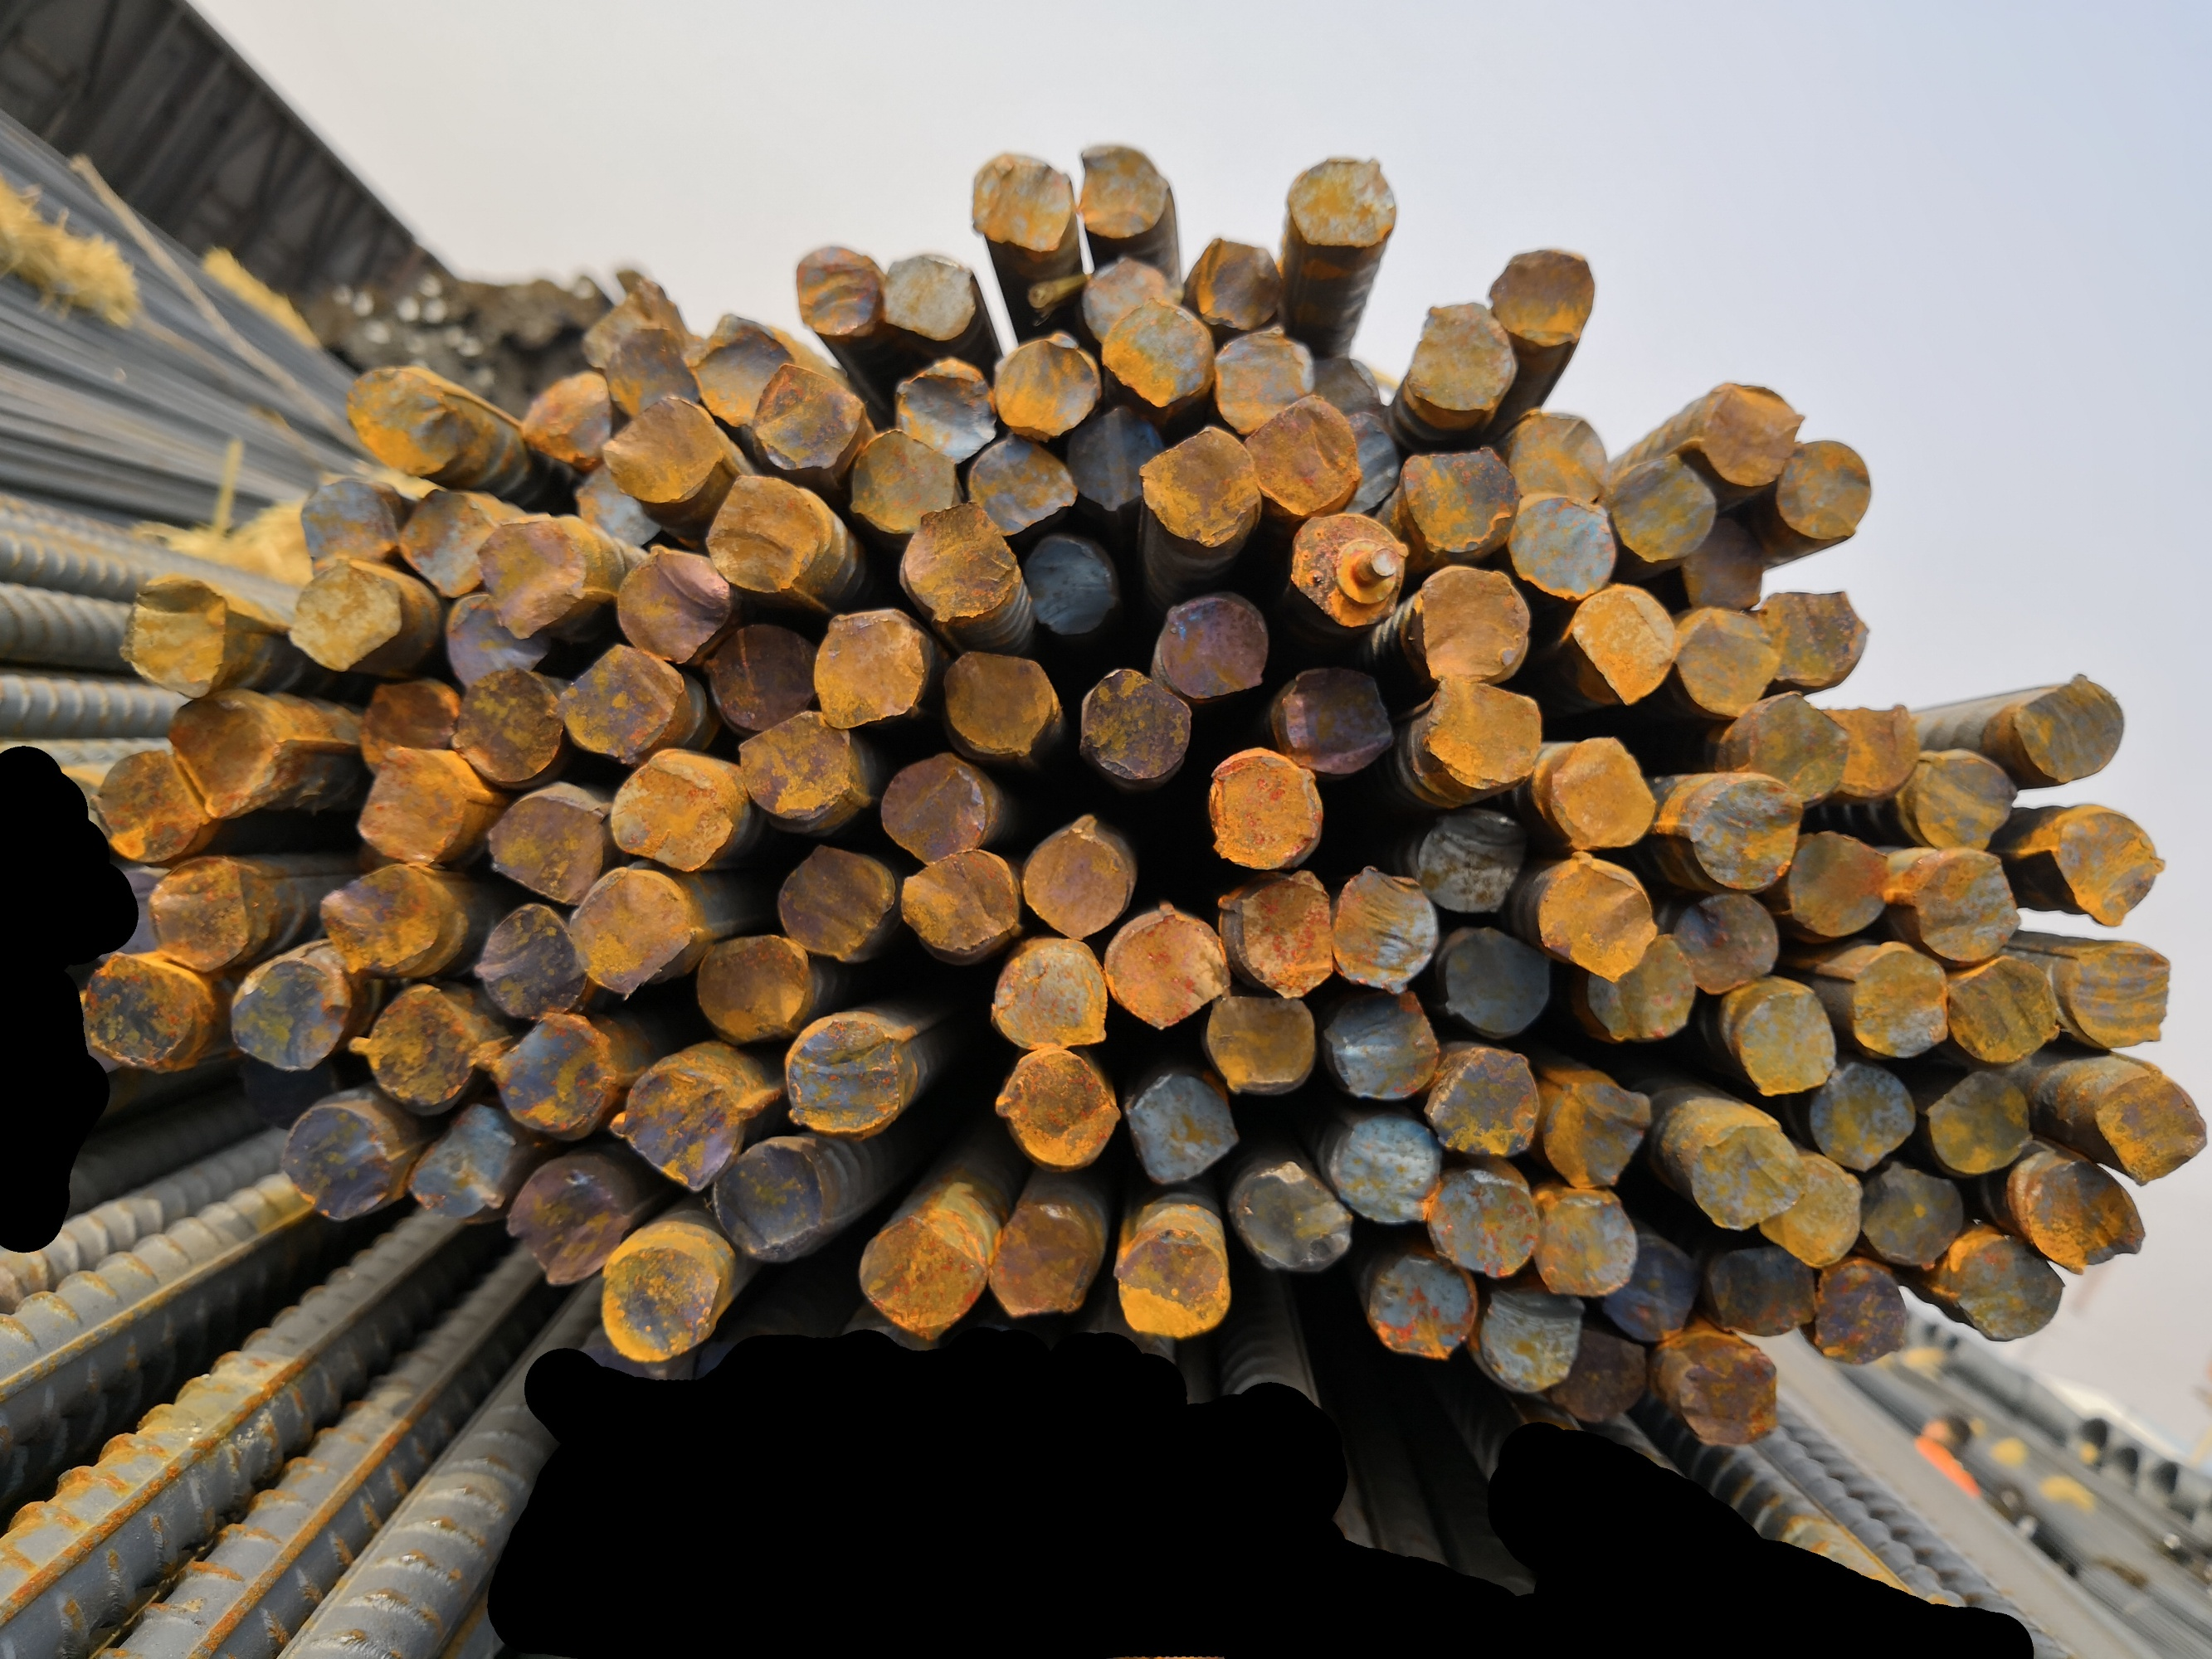rebar: (608, 1051, 755, 1190), (483, 1009, 628, 1140), (499, 1152, 633, 1291), (77, 951, 216, 1080), (347, 983, 483, 1114), (596, 1227, 723, 1364), (856, 1209, 987, 1342), (779, 1009, 910, 1138), (1530, 852, 1659, 983), (2041, 798, 2170, 929), (167, 688, 295, 821), (314, 856, 453, 976), (608, 537, 737, 666), (1135, 420, 1264, 549), (572, 868, 699, 999), (605, 748, 739, 871), (704, 469, 828, 603), (227, 946, 356, 1073), (1408, 671, 1544, 791), (350, 741, 476, 870), (709, 1134, 831, 1267), (141, 856, 277, 974), (1890, 847, 2025, 965), (1102, 899, 1227, 1026), (2085, 1063, 2210, 1190), (113, 573, 237, 702), (992, 1047, 1121, 1171), (483, 788, 615, 908), (343, 357, 469, 483), (1109, 1215, 1234, 1340), (1231, 1154, 1356, 1279), (556, 643, 687, 763), (774, 840, 896, 967), (1215, 868, 1337, 995), (1203, 742, 1321, 873), (281, 1094, 397, 1227), (1567, 573, 1680, 709), (1238, 396, 1361, 519), (1394, 439, 1520, 561), (2020, 1157, 2146, 1279), (899, 502, 1020, 629), (1286, 507, 1408, 631), (1675, 1115, 1804, 1232), (741, 352, 863, 474), (89, 749, 213, 870), (985, 932, 1109, 1053), (2005, 666, 2130, 784), (987, 1190, 1100, 1321), (1272, 657, 1394, 777), (474, 899, 591, 1025), (1361, 1244, 1478, 1370), (403, 1100, 516, 1229), (1332, 864, 1442, 997), (736, 706, 854, 828), (1422, 1159, 1541, 1281), (284, 559, 411, 673), (596, 394, 723, 507), (1895, 742, 2022, 856), (811, 606, 926, 730), (1417, 561, 1532, 685), (1951, 1227, 2066, 1351), (1435, 924, 1555, 1040), (1403, 296, 1518, 418), (1023, 812, 1135, 938), (446, 666, 565, 782), (1686, 774, 1804, 890), (842, 425, 962, 540), (479, 516, 591, 640), (1079, 664, 1191, 788), (1473, 1279, 1590, 1396), (1325, 1110, 1442, 1227), (1539, 737, 1658, 852), (577, 274, 709, 376), (687, 305, 795, 430), (1755, 1141, 1863, 1267), (1145, 592, 1272, 699), (941, 645, 1060, 758), (1686, 376, 1806, 488), (1541, 1070, 1652, 1190), (1123, 1068, 1238, 1183), (1802, 1060, 1917, 1175), (1323, 988, 1440, 1101), (702, 615, 821, 727), (1738, 688, 1849, 807), (899, 847, 1020, 957), (1919, 1065, 2039, 1175), (1426, 1042, 1539, 1157), (1947, 951, 2064, 1063), (1102, 293, 1215, 406), (879, 751, 994, 863), (1727, 981, 1839, 1096), (1530, 1183, 1640, 1300), (692, 932, 811, 1040), (1584, 927, 1694, 1042), (1842, 943, 1951, 1060), (2067, 938, 2174, 1056), (964, 143, 1075, 254), (1415, 805, 1527, 917), (293, 471, 406, 580), (1672, 1335, 1781, 1448), (1508, 488, 1618, 599), (1757, 584, 1869, 694), (1780, 828, 1891, 938), (1766, 430, 1874, 544), (1668, 890, 1785, 995), (1598, 1223, 1700, 1344), (1607, 453, 1715, 565), (1670, 605, 1778, 716), (1804, 1258, 1912, 1370), (891, 354, 997, 467), (1281, 148, 1398, 251), (1858, 1159, 1966, 1269), (1483, 242, 1595, 349), (1208, 993, 1316, 1100), (1506, 397, 1611, 507), (352, 674, 464, 777), (392, 488, 495, 599), (1175, 230, 1286, 333), (1701, 1239, 1815, 1338), (994, 333, 1100, 437), (1062, 397, 1161, 509), (1215, 326, 1316, 434), (441, 587, 556, 681), (967, 432, 1075, 532), (518, 362, 615, 471), (1020, 535, 1123, 636), (1816, 699, 1917, 800), (1072, 139, 1168, 242), (788, 240, 882, 345), (603, 317, 701, 416), (1551, 1324, 1647, 1425), (875, 249, 978, 343), (1677, 511, 1768, 617), (1070, 253, 1184, 336), (567, 457, 657, 549), (1337, 403, 1407, 519), (1313, 349, 1389, 416)
